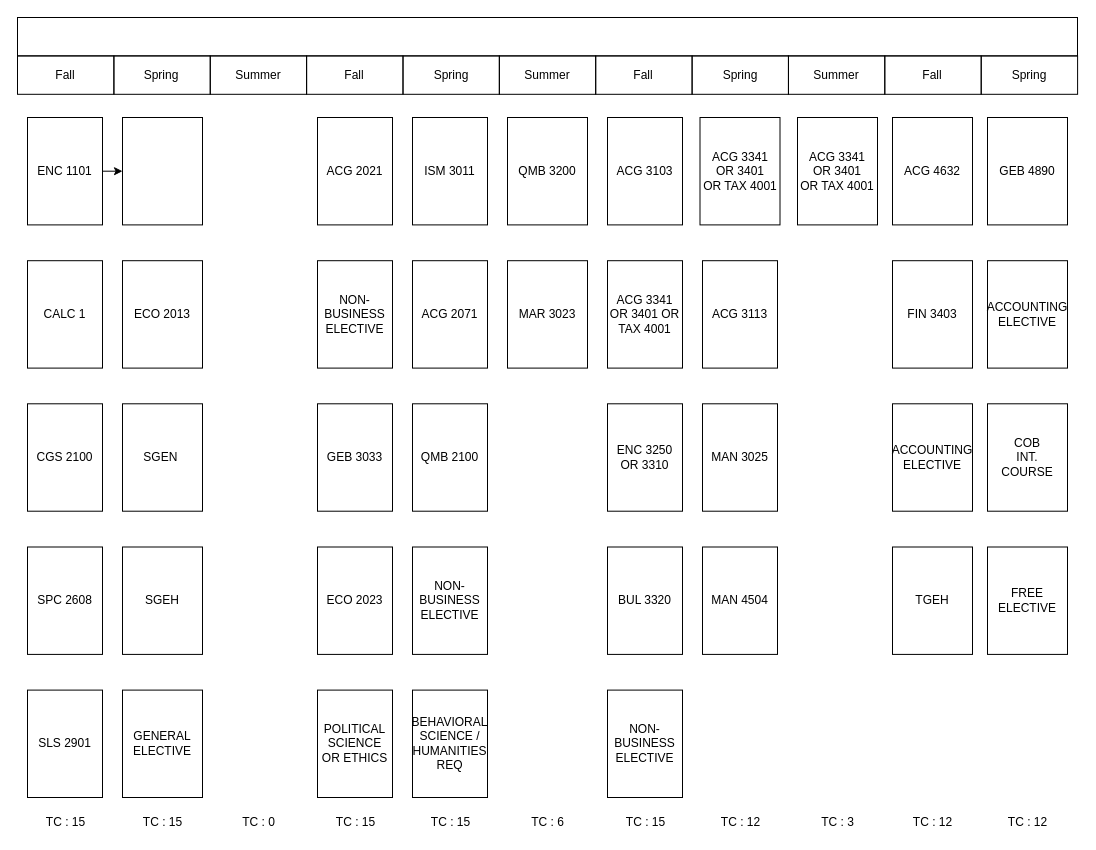
The diagram is 1096 pixels wide and 850 high, and some of its shapes have lost their labels. Here are the shapes that lost their labels. From the top down, the box of each, then its label:
(16, 16, 1078, 56): ACCOUNTING USF
(122, 116, 202, 225): ENC 1102
